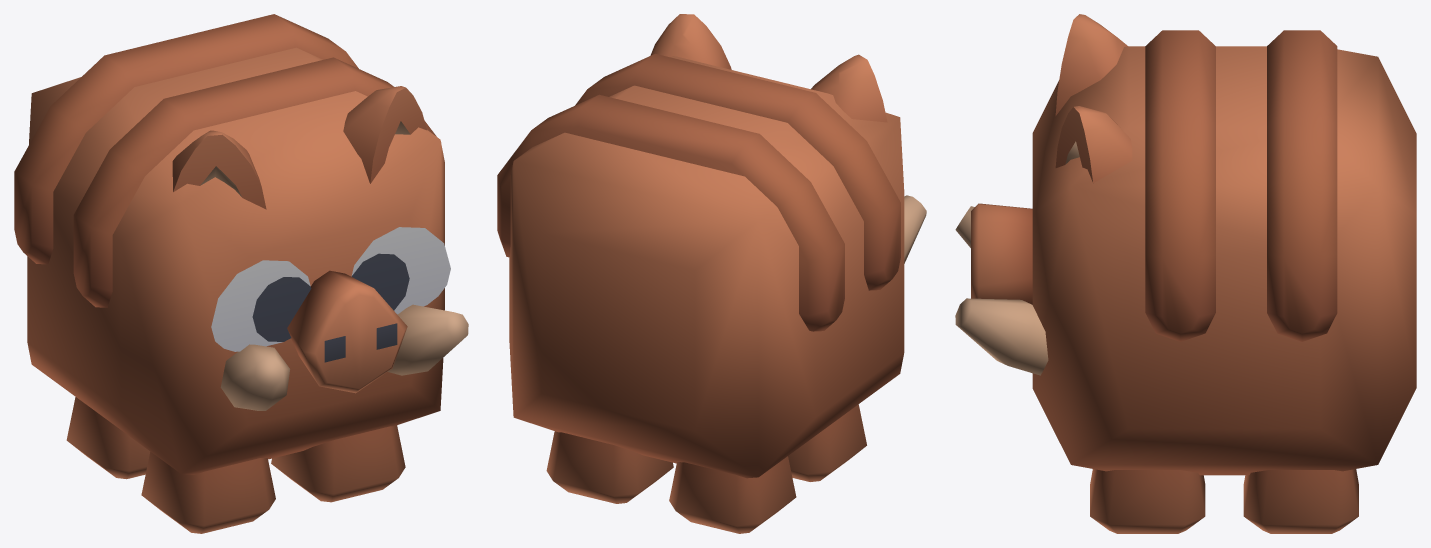
File: hog.glb
3 views of the same model, side by side, from view 1: azimuth 30°, elevation 25°; view 2: azimuth 150°, elevation 25°; view 3: azimuth 270°, elevation 25° (orthographic). The views are drawn at different scales.
Parts seen in each view (by area): view 1: body, leg-front-right, leg-front-left, leg-back-right; view 2: body, leg-back-right, leg-back-left, leg-front-right; view 3: body, leg-front-left, leg-back-left.
Part boxes in pixels (left/top/right/bottom): body: left=14, top=14, right=468, bottom=474; leg-front-right: left=141, top=451, right=275, bottom=533; leg-front-left: left=271, top=425, right=405, bottom=502; leg-back-right: left=66, top=397, right=150, bottom=479; body: left=497, top=14, right=926, bottom=478; leg-back-right: left=669, top=456, right=796, bottom=533; leg-back-left: left=546, top=431, right=673, bottom=503; leg-front-right: left=788, top=404, right=866, bottom=481; body: left=955, top=14, right=1416, bottom=475; leg-front-left: left=1090, top=469, right=1205, bottom=533; leg-back-left: left=1243, top=469, right=1358, bottom=533.
Bounding box in the file's own units: 1.35 × 1.52 × 1.5.
